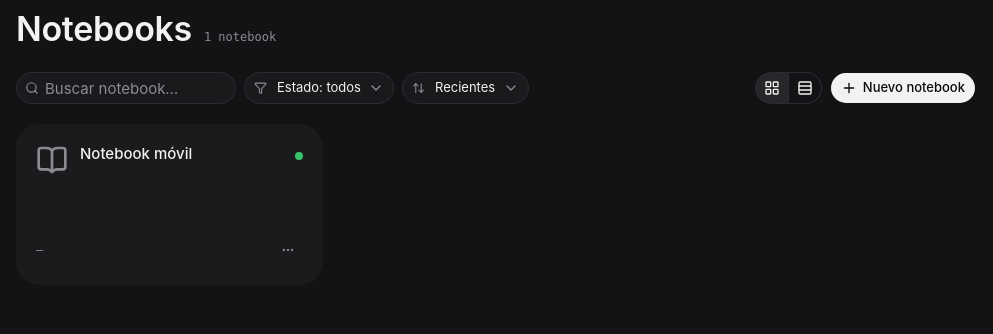
Test case: sin resultados muestra el vacío de filtros
Expected: the text "Notebook móvil" is shown, [80, 144, 192, 163]
Type "zzz" into the field with placeholder "Buscar notebook…" at (137,88), box [39, 72, 235, 104]
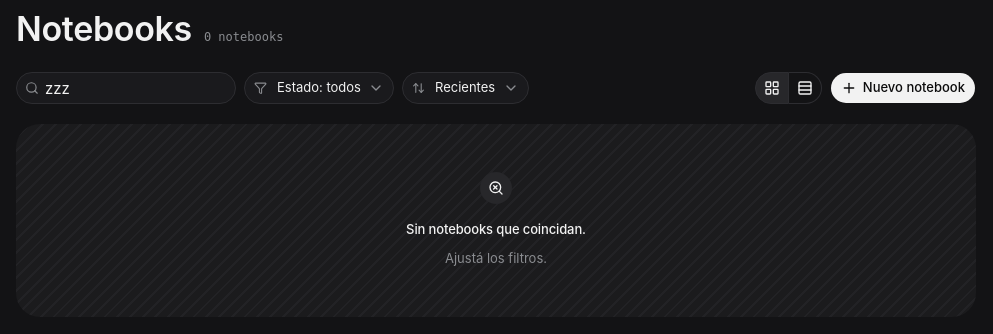
Expected: the text "Sin notebooks que coincidan." is shown, [406, 220, 586, 240]
